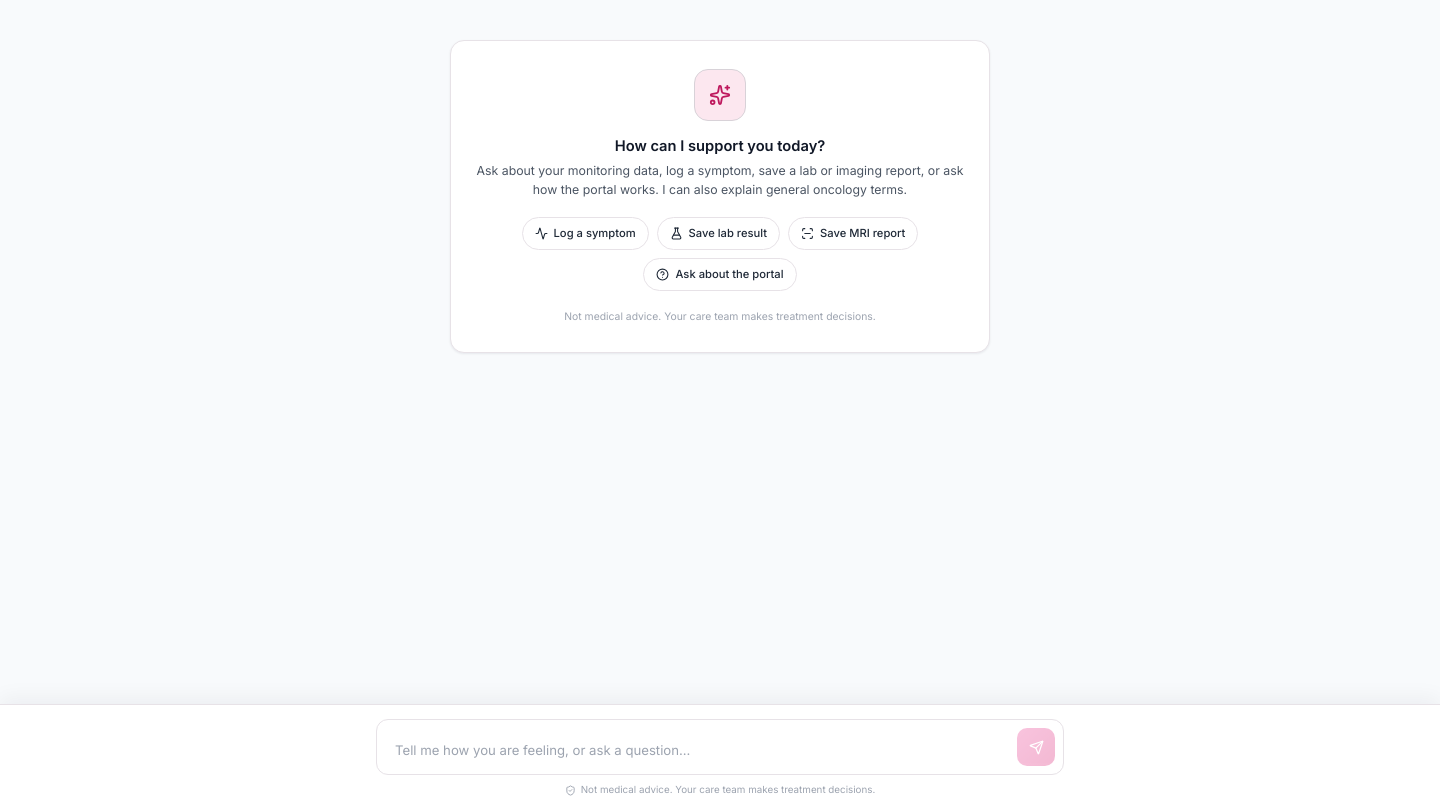
it: ChatPanel behavioral contract › renders a source-backed answer, citations, and a saved-action status
Type "What does nausea mean?" into the text box at (699, 750), box [391, 734, 1007, 766]
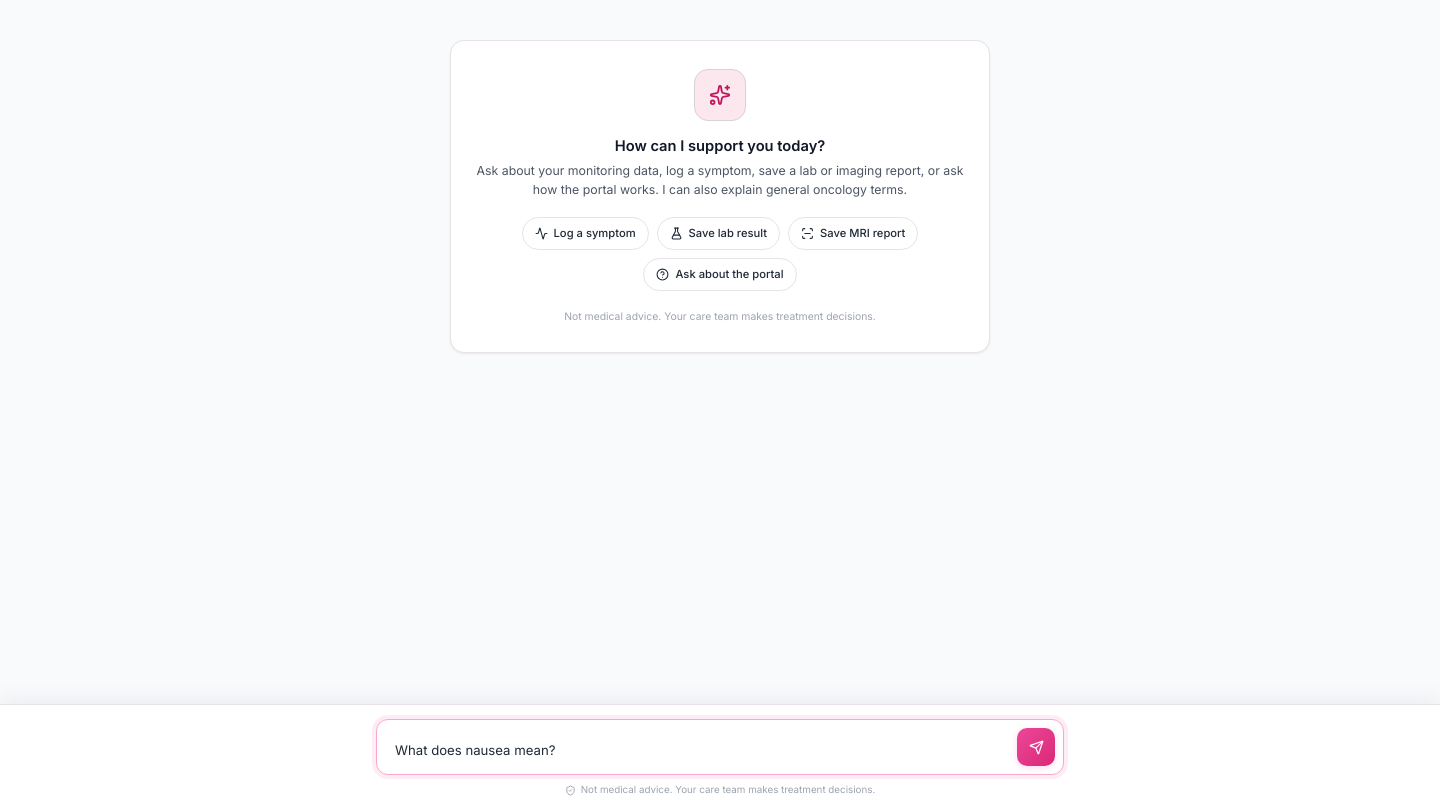
Click the button named "Send message" at (1036, 747), box [1017, 728, 1055, 766]
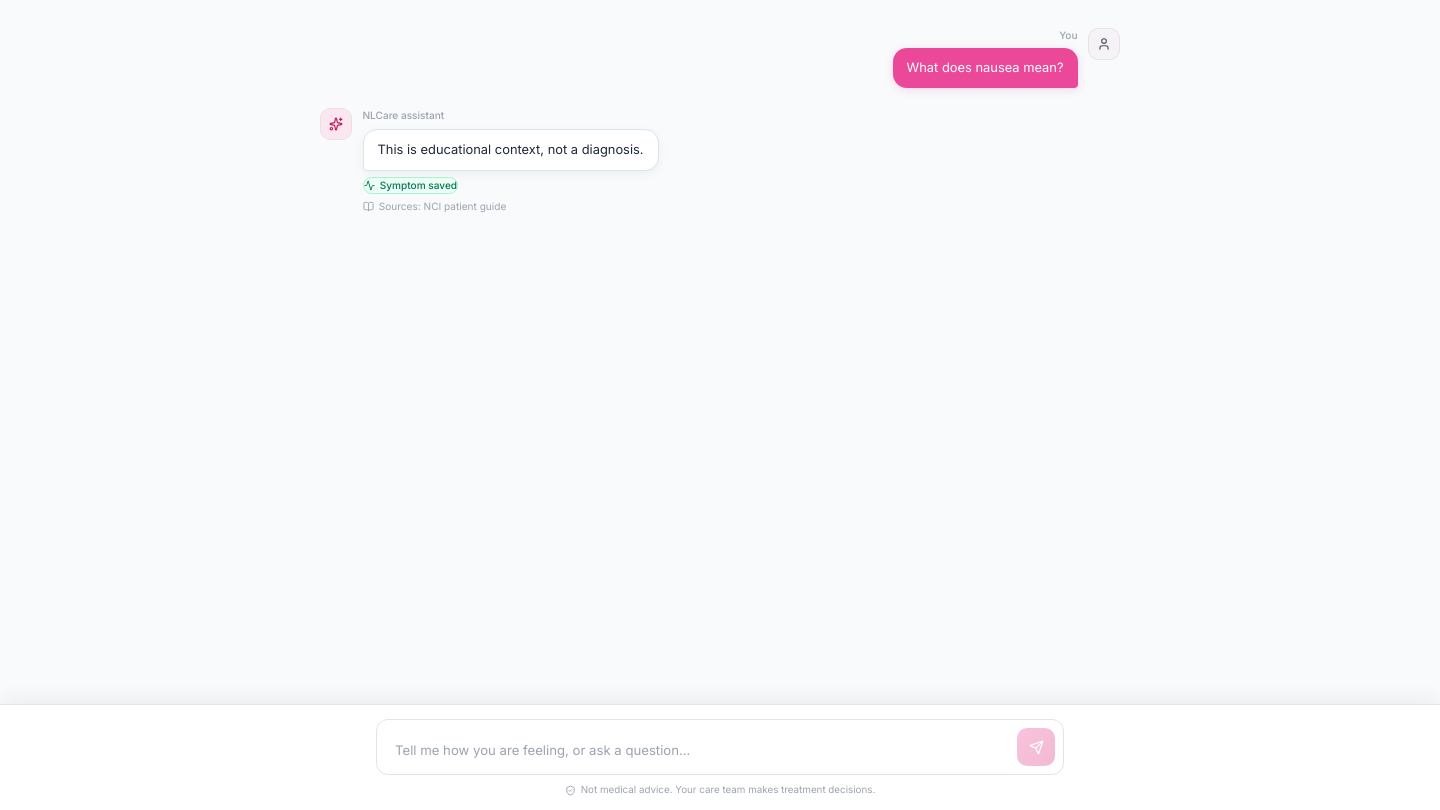
Result: the text "This is educational context, not a diagnosis." is shown at [378, 140, 644, 160]
Result: the text "Sources: NCI patient guide" is shown at [362, 199, 506, 214]
Result: the text "Symptom saved" is shown at [362, 176, 458, 194]
